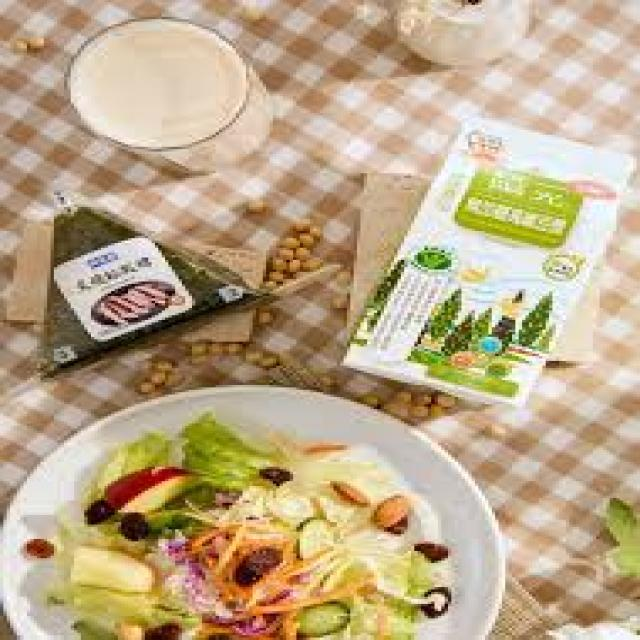TongYi_UnsweetenedHighFiberSoyMilk: (335, 107, 638, 412)
